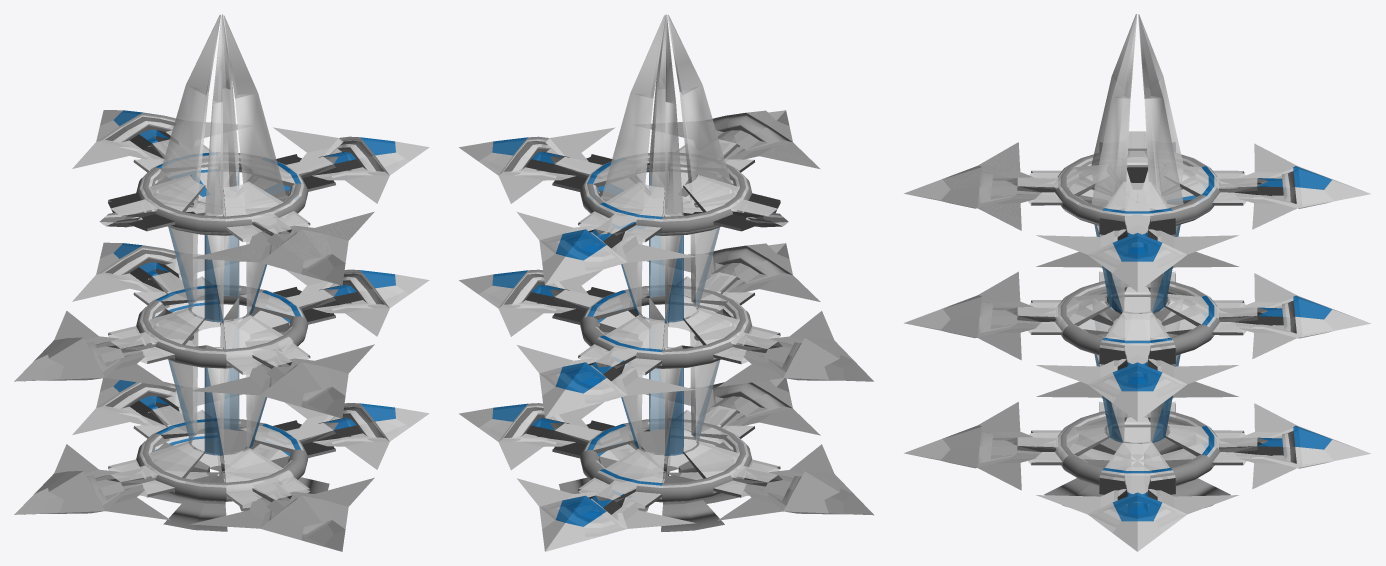
Rendered from PoleStar_v1.fbx.
3 views of the same model, side by side, from view 1: azimuth 30°, elevation 25°; view 2: azimuth 150°, elevation 25°; view 3: azimuth 270°, elevation 25° (orthographic). The views are drawn at different scales.
Visible parts, largest first — view 1: polySurface99, polySurface48, polySurface53, polySurface43, polySurface45, polySurface42, polySurface94, polySurface92, polySurface91, polySurface52, polySurface90, polySurface93 (+1 smaller); view 2: polySurface99, polySurface91, polySurface93, polySurface92, polySurface45, polySurface42, polySurface94, polySurface53, polySurface48, polySurface43, polySurface52, polySurface90 (+1 smaller); view 3: polySurface99, polySurface94, polySurface52, polySurface90, polySurface43, polySurface53, polySurface48, polySurface93, polySurface92, polySurface91, polySurface42, polySurface45 (+1 smaller).
Boxes of the visible parts, x1=… form: polySurface99: x1=99, y1=14, x2=335, y2=531; polySurface48: x1=190, y1=344, x2=374, y2=418; polySurface53: x1=190, y1=211, x2=374, y2=285; polySurface43: x1=190, y1=477, x2=374, y2=551; polySurface45: x1=14, y1=311, x2=170, y2=386; polySurface42: x1=14, y1=444, x2=170, y2=520; polySurface94: x1=273, y1=127, x2=429, y2=203; polySurface92: x1=72, y1=110, x2=248, y2=168; polySurface91: x1=72, y1=242, x2=240, y2=301; polySurface52: x1=285, y1=402, x2=429, y2=469; polySurface90: x1=286, y1=269, x2=429, y2=336; polySurface93: x1=72, y1=378, x2=242, y2=434; polySurface99: x1=552, y1=14, x2=788, y2=531; polySurface91: x1=517, y1=345, x2=696, y2=418; polySurface93: x1=517, y1=478, x2=696, y2=551; polySurface92: x1=517, y1=212, x2=696, y2=285; polySurface45: x1=717, y1=311, x2=873, y2=387; polySurface42: x1=718, y1=444, x2=873, y2=520; polySurface94: x1=459, y1=127, x2=615, y2=203; polySurface53: x1=637, y1=110, x2=820, y2=169; polySurface48: x1=646, y1=243, x2=820, y2=301; polySurface43: x1=644, y1=378, x2=820, y2=435; polySurface52: x1=459, y1=402, x2=603, y2=470; polySurface90: x1=459, y1=269, x2=603, y2=336; polySurface99: x1=1012, y1=14, x2=1265, y2=507; polySurface94: x1=1036, y1=229, x2=1238, y2=291; polySurface52: x1=1036, y1=489, x2=1238, y2=551; polySurface90: x1=1036, y1=358, x2=1238, y2=421; polySurface43: x1=904, y1=402, x2=1041, y2=490; polySurface53: x1=904, y1=142, x2=1041, y2=230; polySurface48: x1=904, y1=271, x2=1041, y2=360; polySurface93: x1=1233, y1=403, x2=1371, y2=489; polySurface92: x1=1233, y1=143, x2=1370, y2=229; polySurface91: x1=1233, y1=273, x2=1370, y2=358; polySurface42: x1=1036, y1=381, x2=1238, y2=399; polySurface45: x1=1036, y1=245, x2=1239, y2=269.
Bounding box in the file's own units: 399 × 450 × 398.
